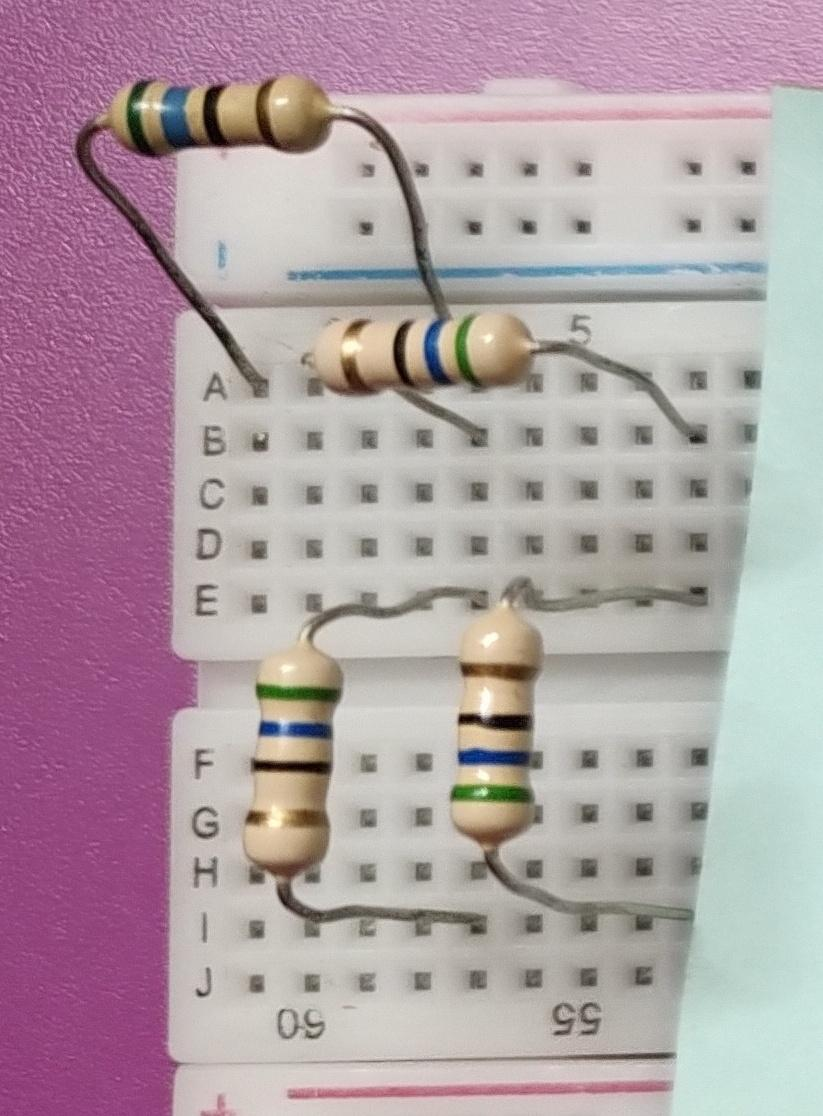resistor: (437, 587, 545, 874), (231, 633, 348, 894), (295, 299, 550, 399), (97, 65, 347, 160)
